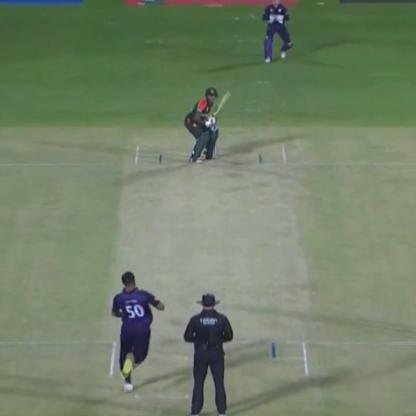bat: (209, 86, 239, 121)
pitch: (111, 144, 318, 395)
